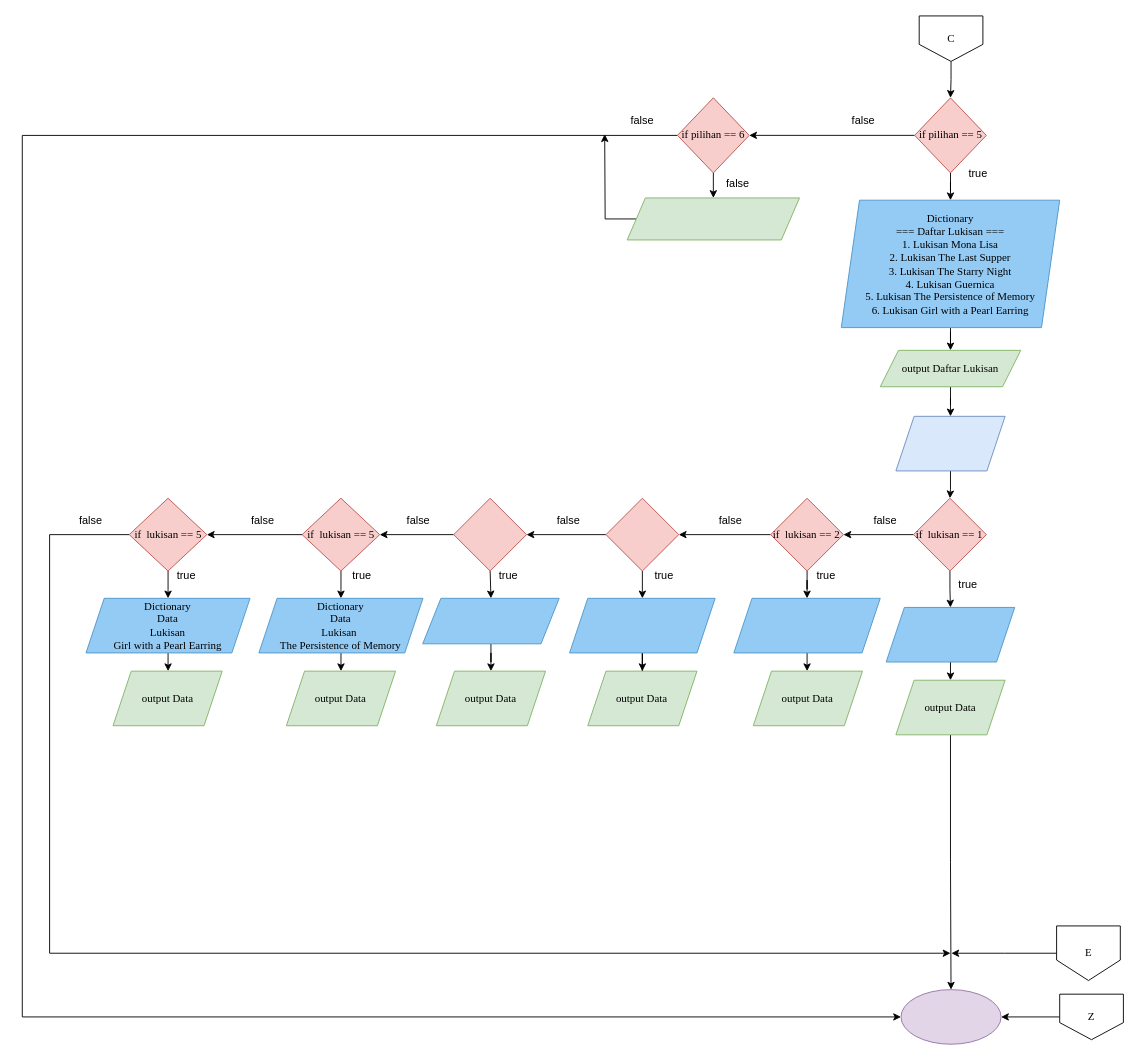
Some shapes in this 1139 by 1060 pixel diagram are drawn without their labels. The shapes that lost their labels are listed below. From the top down, each one's box as (x1, y1, x2, y2) in pixels, then its label:
(626, 197, 800, 240): output "=== Keluar Dari Program ==="
(895, 415, 1005, 471): input int lukisan
(453, 497, 527, 571): if lukisan == 4
(605, 497, 679, 571): if lukisan == 3
(422, 597, 559, 644): Dictionary Data Lukisan Guernica
(569, 597, 715, 653): Dictionary Data Lukisan The Starry Night
(733, 597, 880, 653): Dictionary Data Lukisan The Last Supper
(885, 607, 1015, 662): Dictionary Data Lukisan Mona Lisa
(900, 989, 1001, 1044): End
